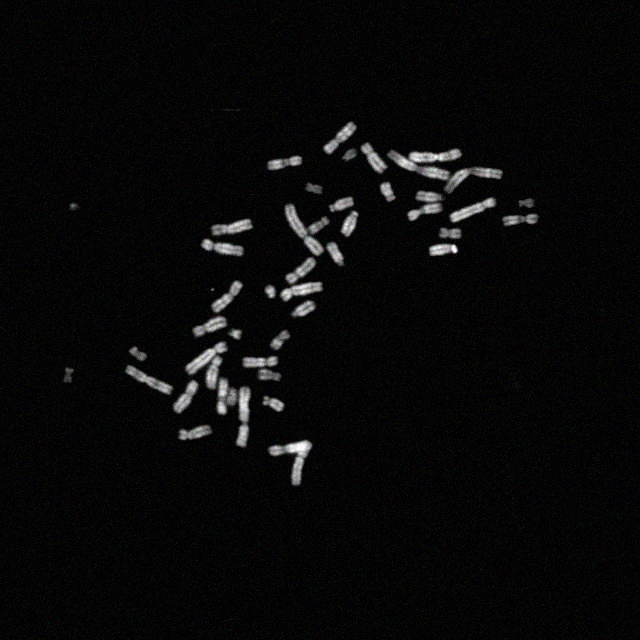chromosome: (284, 204, 324, 256), (387, 150, 449, 180), (444, 167, 502, 193), (126, 364, 172, 396), (185, 341, 228, 373), (450, 198, 496, 222), (324, 123, 356, 153), (212, 280, 242, 312), (292, 442, 312, 486), (236, 388, 250, 447), (174, 379, 198, 413), (361, 144, 387, 174), (286, 257, 316, 283), (408, 148, 462, 162), (282, 282, 322, 300), (202, 239, 243, 255), (194, 318, 226, 338), (408, 203, 442, 221), (270, 441, 312, 455), (212, 220, 253, 234), (206, 355, 222, 389), (268, 156, 302, 170), (180, 426, 212, 440), (504, 214, 538, 226), (270, 331, 290, 351), (342, 212, 358, 236), (292, 301, 316, 317), (308, 216, 329, 234), (218, 378, 228, 414), (328, 243, 344, 265), (244, 357, 278, 367), (430, 244, 458, 256), (330, 197, 354, 211), (380, 182, 396, 202), (263, 396, 283, 412), (260, 368, 280, 382), (130, 346, 147, 362), (439, 227, 461, 239), (416, 192, 442, 202), (306, 183, 322, 195), (228, 328, 242, 340), (228, 388, 237, 406), (63, 368, 73, 384), (344, 149, 356, 161), (265, 286, 275, 298), (520, 200, 534, 208)
